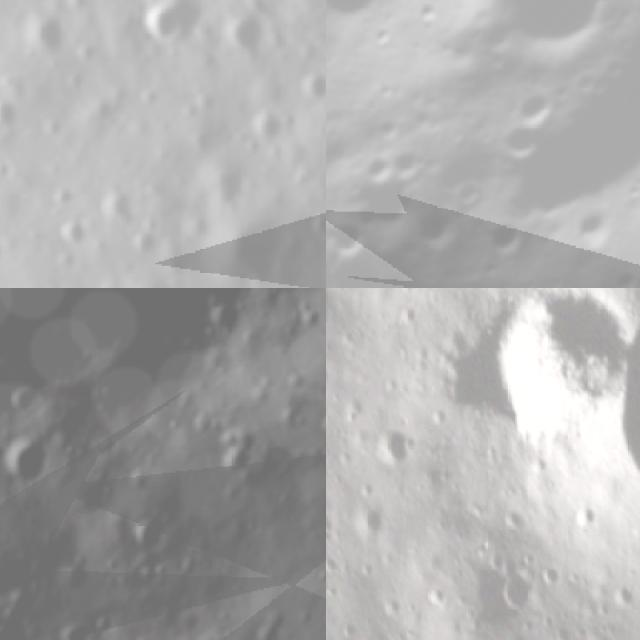crater: (472, 288, 633, 431), (474, 0, 637, 85), (193, 195, 312, 288), (338, 150, 438, 250), (135, 0, 212, 57), (489, 108, 555, 174), (504, 72, 569, 137), (565, 195, 627, 257), (18, 1, 78, 63), (220, 5, 278, 68), (326, 200, 379, 266), (412, 196, 470, 255), (198, 155, 258, 212), (0, 431, 57, 490), (478, 208, 534, 266), (94, 177, 147, 230), (241, 99, 296, 150), (369, 418, 420, 470), (214, 431, 263, 482), (444, 167, 492, 215), (125, 513, 173, 559), (386, 136, 432, 182), (0, 583, 45, 629), (50, 210, 98, 252), (492, 568, 534, 614), (0, 86, 32, 143), (300, 457, 326, 526), (44, 179, 88, 217), (208, 296, 246, 337), (134, 555, 172, 593), (296, 62, 326, 110), (10, 380, 45, 418), (278, 400, 312, 436), (246, 378, 280, 414), (604, 575, 638, 610), (292, 303, 326, 335), (128, 461, 158, 497), (91, 606, 117, 640), (0, 142, 18, 190), (17, 542, 41, 577), (55, 615, 87, 640), (249, 617, 281, 640), (309, 203, 326, 246), (0, 231, 15, 265), (167, 413, 184, 434), (317, 408, 326, 443), (247, 0, 286, 8)
